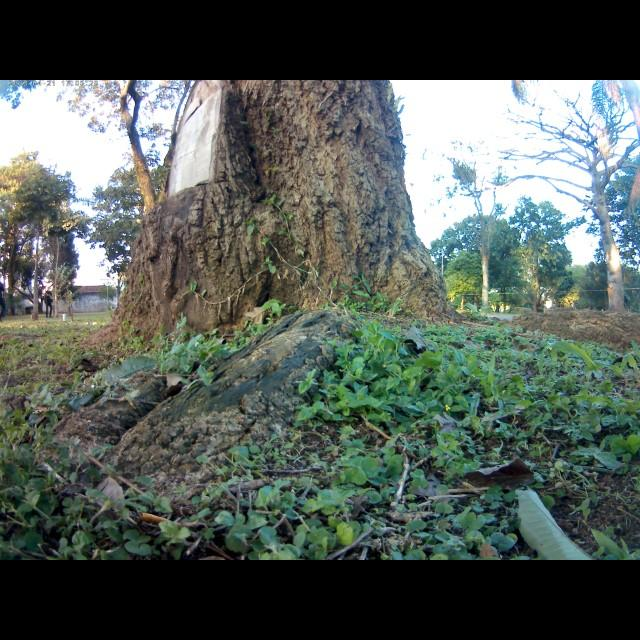arvore: (68, 83, 467, 464)
